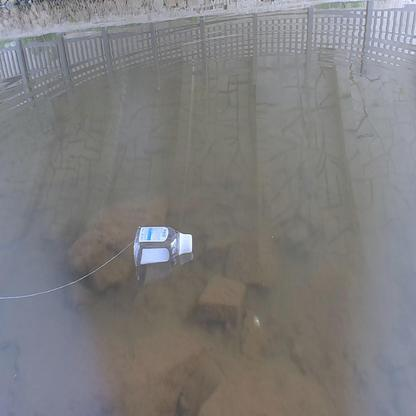plastic bottle: (133, 226, 193, 263)
